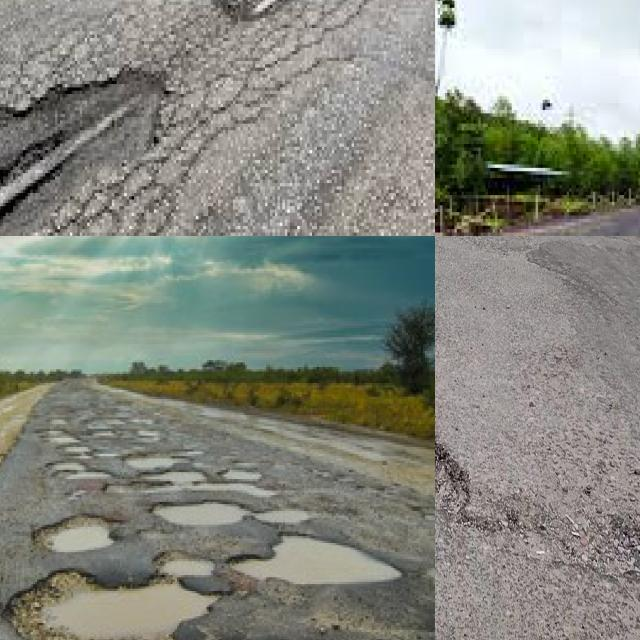Pothole: (0, 68, 169, 226), (48, 458, 311, 525), (10, 573, 215, 640), (234, 536, 402, 584), (33, 516, 111, 554)
